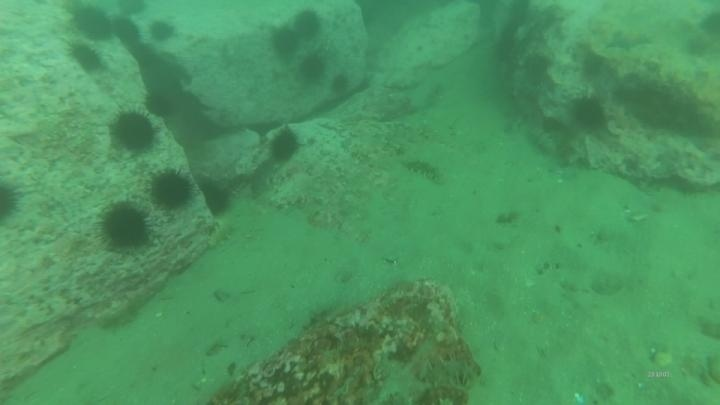echinus: (97, 199, 153, 253), (109, 107, 159, 155), (148, 166, 195, 212), (68, 4, 115, 43), (568, 93, 609, 134), (197, 177, 234, 218), (266, 127, 302, 165), (66, 40, 105, 75), (109, 16, 143, 51), (520, 50, 554, 85), (268, 25, 301, 60), (290, 8, 324, 41), (1, 178, 24, 225), (297, 51, 328, 85), (144, 89, 177, 120), (578, 51, 607, 82), (147, 18, 178, 45), (328, 71, 353, 97), (114, 1, 150, 19)
holothurian: (410, 351, 483, 397), (401, 156, 446, 185), (203, 218, 238, 252)
starfish: (603, 26, 655, 53)
